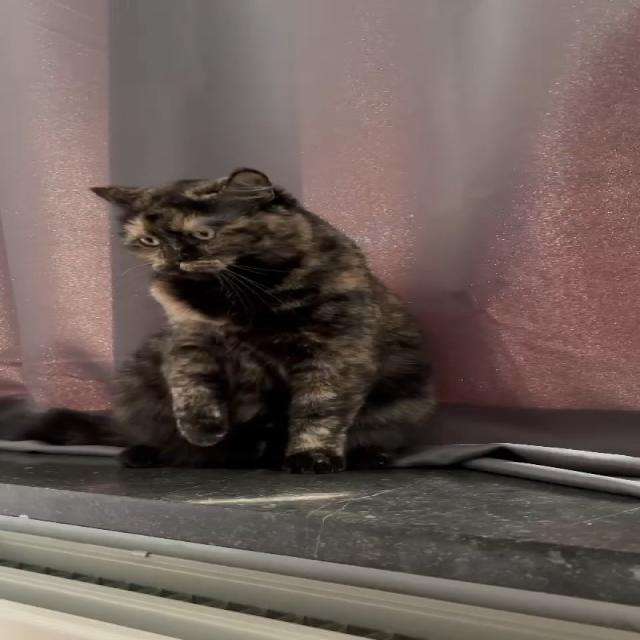authorized: (85, 166, 438, 475)
